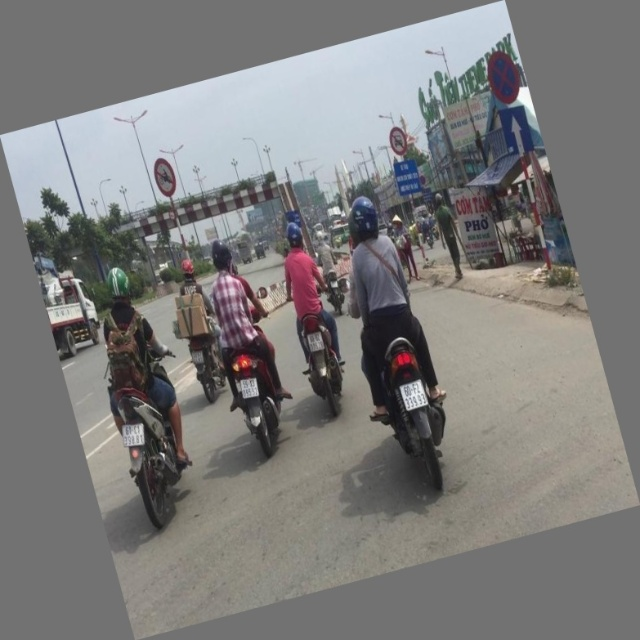P.103a: (385, 122, 413, 161)
P.104: (149, 154, 181, 198)
P.130: (482, 43, 526, 105)
